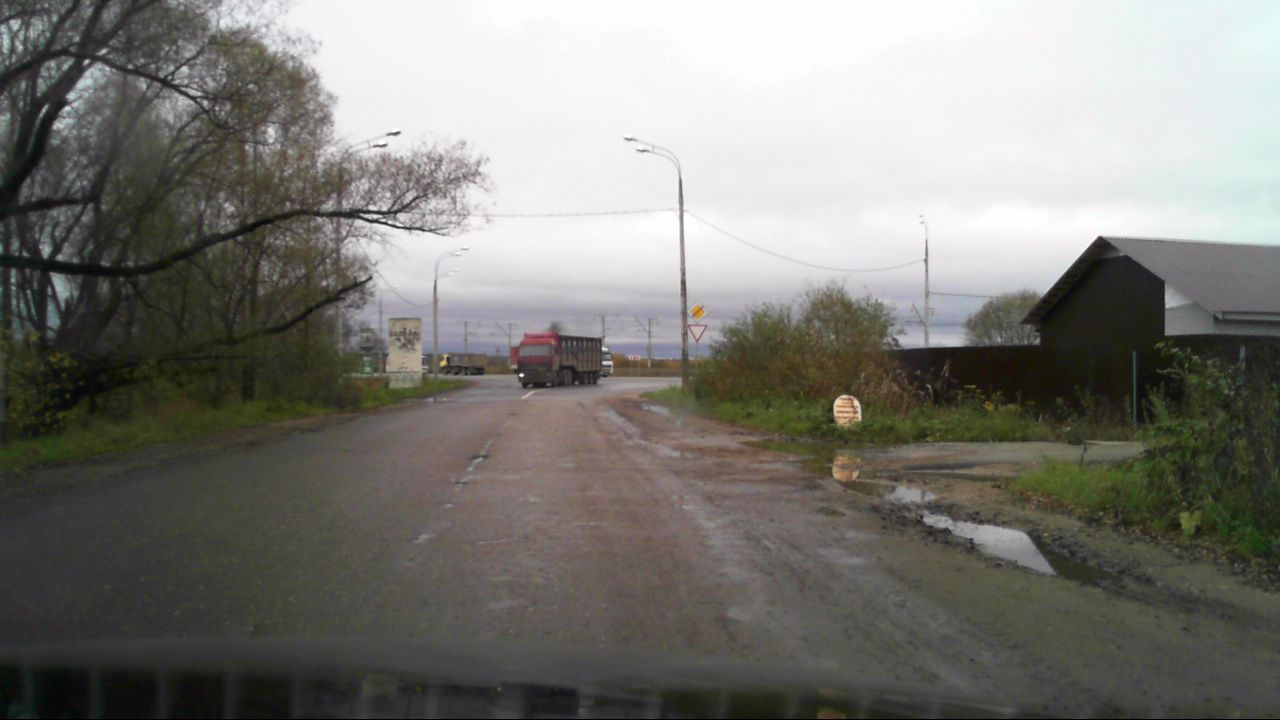main road: (689, 301, 708, 320)
